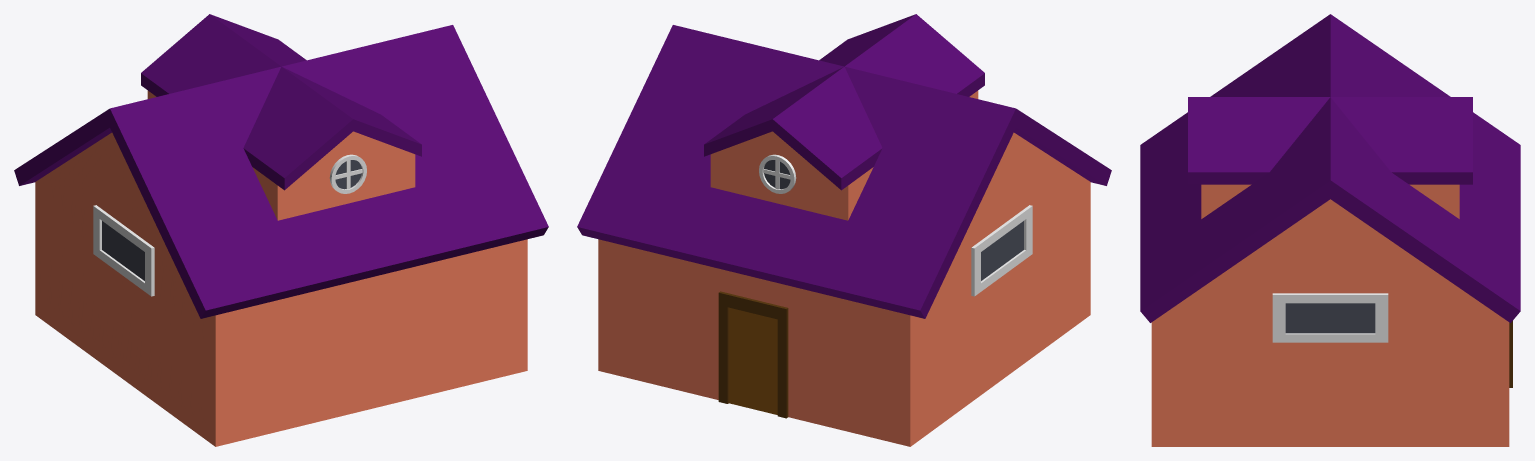
File: house 5.model.fbx
The picture shows the model from 3 angles, left to right: view 1: azimuth 30°, elevation 25°; view 2: azimuth 150°, elevation 25°; view 3: azimuth 270°, elevation 25°; orthographic projection.
Visible parts, largest first — view 1: roof_half_extra_35, block_0, roof_half_extra_37, window_small_41, window_round_detail_40; view 2: roof_half_extra_37, block_0, roof_half_extra_35, door_low_38, window_small_41, window_round_detail_39; view 3: block_0, roof_half_extra_35, roof_half_extra_37, window_small_42.
Boxes of the visible parts, x1,y1,x2,y2 form: roof_half_extra_35: (110, 25, 548, 318); block_0: (35, 178, 527, 446); roof_half_extra_37: (14, 14, 306, 225); window_small_41: (93, 205, 154, 296); window_round_detail_40: (329, 154, 366, 193); roof_half_extra_37: (577, 25, 1015, 318); block_0: (598, 178, 1090, 446); roof_half_extra_35: (819, 14, 1111, 225); door_low_38: (718, 291, 788, 418); window_small_41: (971, 205, 1032, 296); window_round_detail_39: (759, 154, 796, 193); block_0: (1151, 306, 1509, 446); roof_half_extra_35: (1140, 14, 1330, 322); roof_half_extra_37: (1330, 14, 1520, 322); window_small_42: (1272, 293, 1388, 342).
Bounding box in the file's own units: 33 × 25.4 × 31.92.
